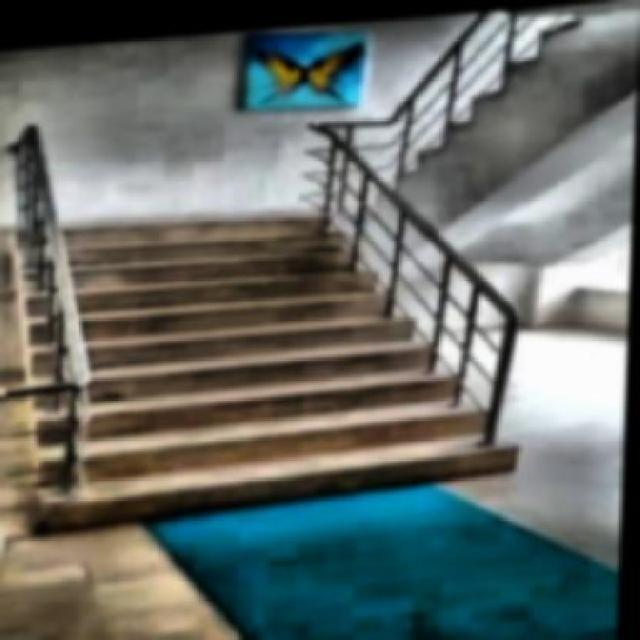stair: (19, 191, 516, 520)
